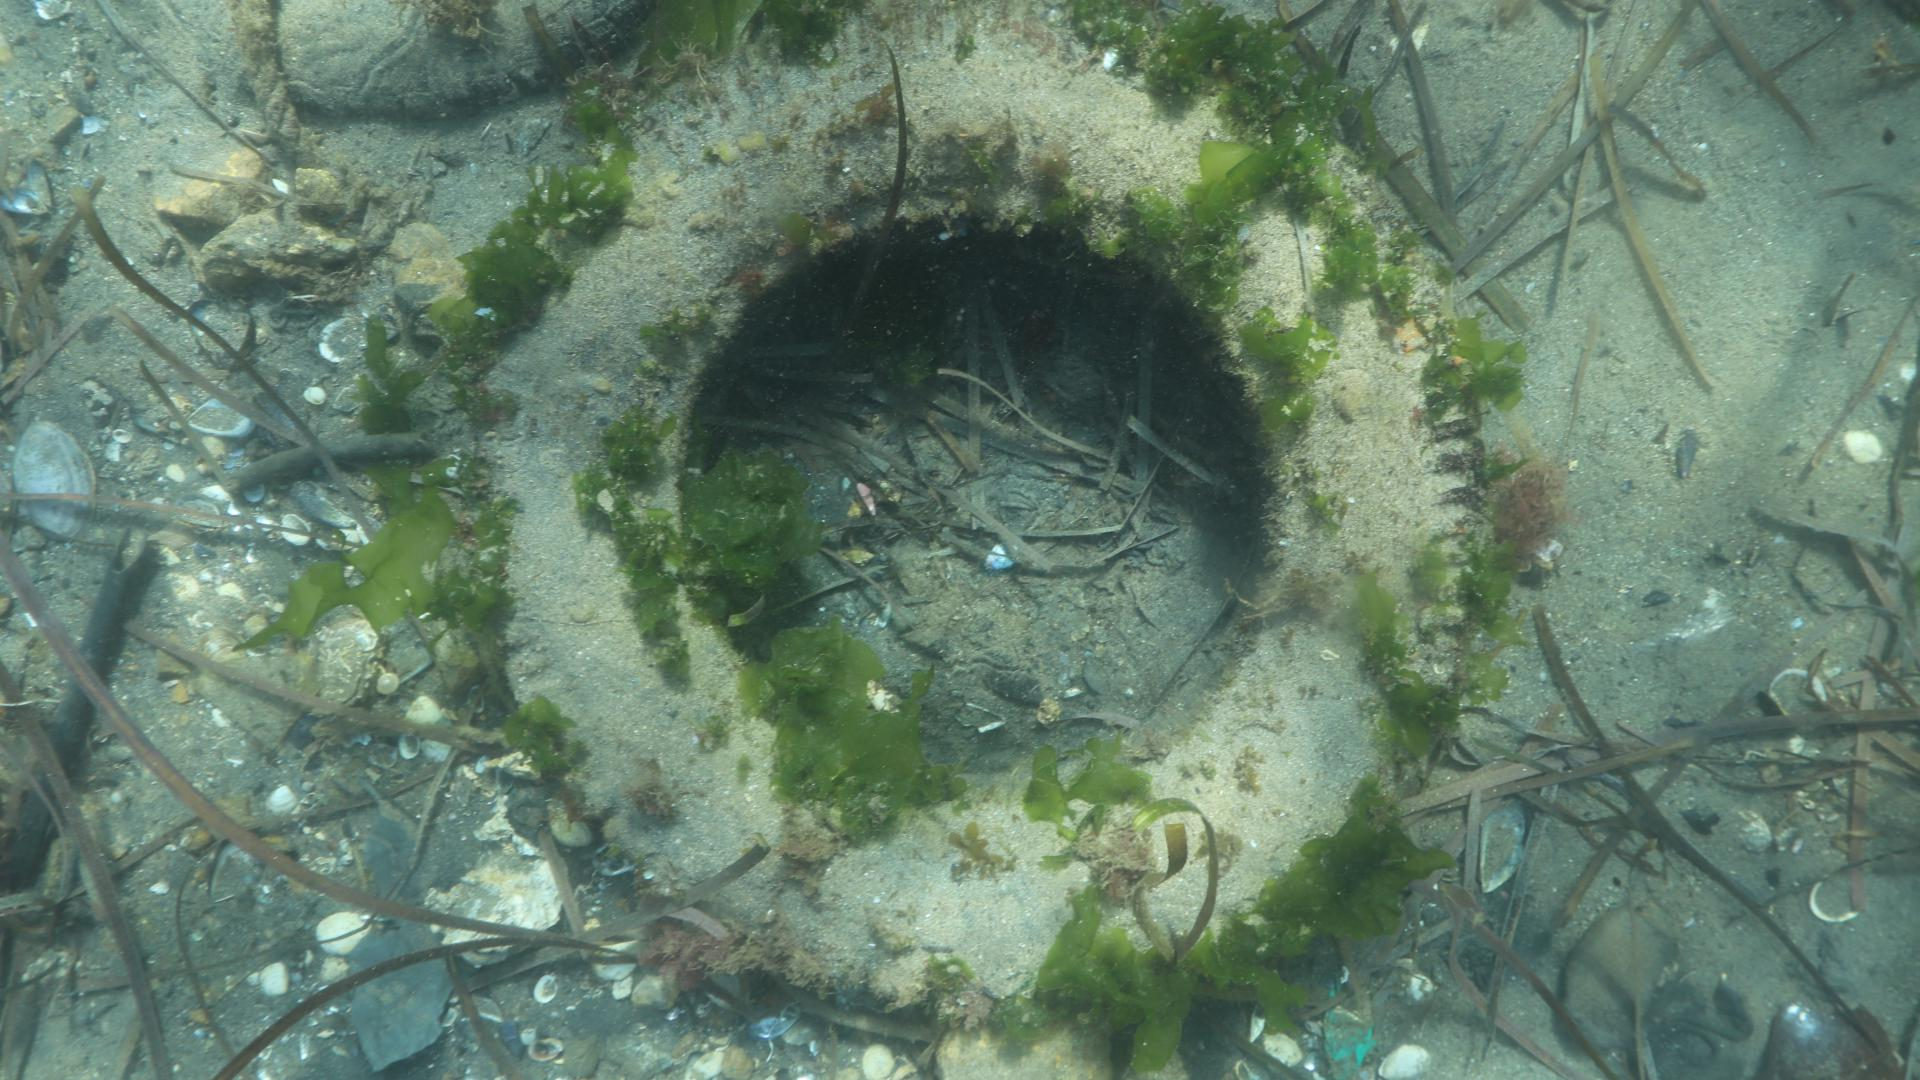tire: (459, 55, 1487, 1036)
